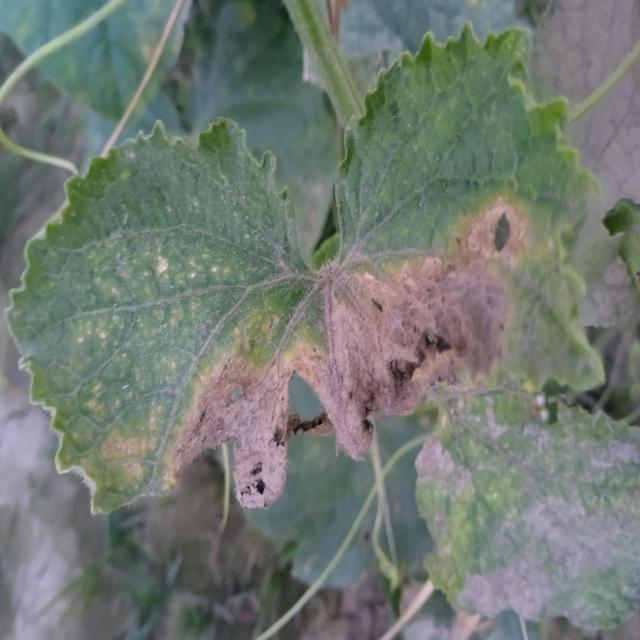cucumber_gummy: (4, 2, 608, 511), (414, 380, 640, 640)
